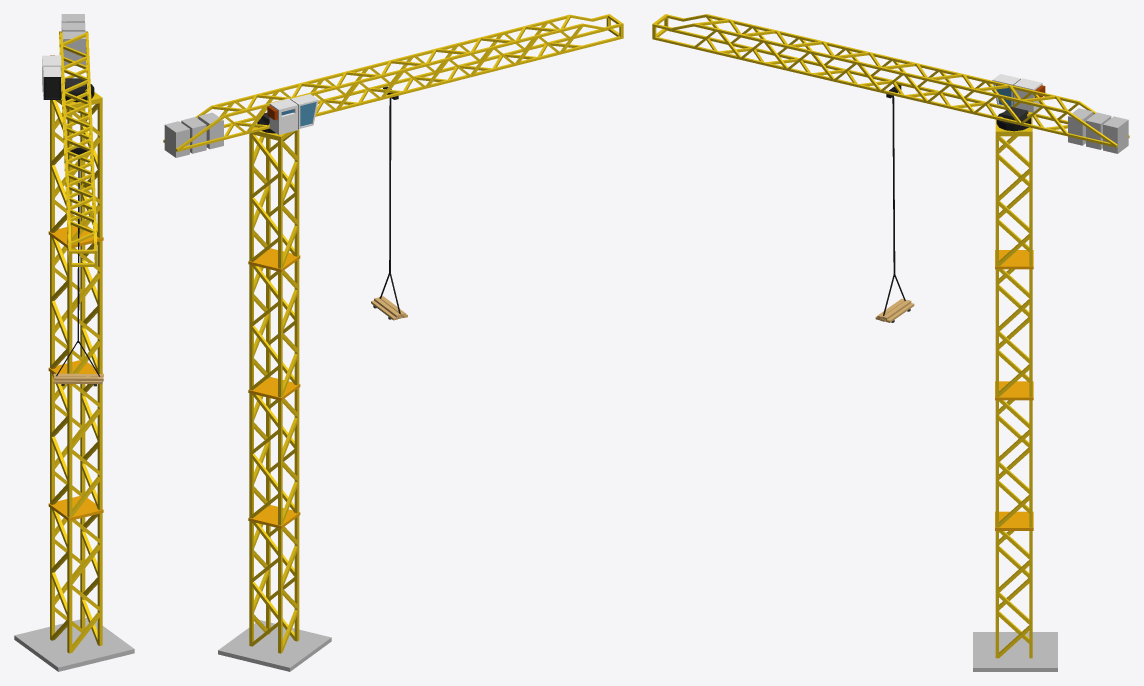
File: crane.glb
The picture shows the model from 3 angles, left to right: view 1: azimuth 30°, elevation 25°; view 2: azimuth 150°, elevation 25°; view 3: azimuth 270°, elevation 25°; orthographic projection. The views are drawn at different scales.
Visible parts, largest first — view 1: Crane_Ground; view 2: Crane_Ground; view 3: Crane_Ground.
Part boxes in pixels (x1,y1,x2,y2): Crane_Ground: (14,14,134,671); Crane_Ground: (163,14,623,671); Crane_Ground: (652,14,1129,671).
Bounding box in the file's own units: 14.48 × 32 × 24.62.
1 material, 1 textured.
